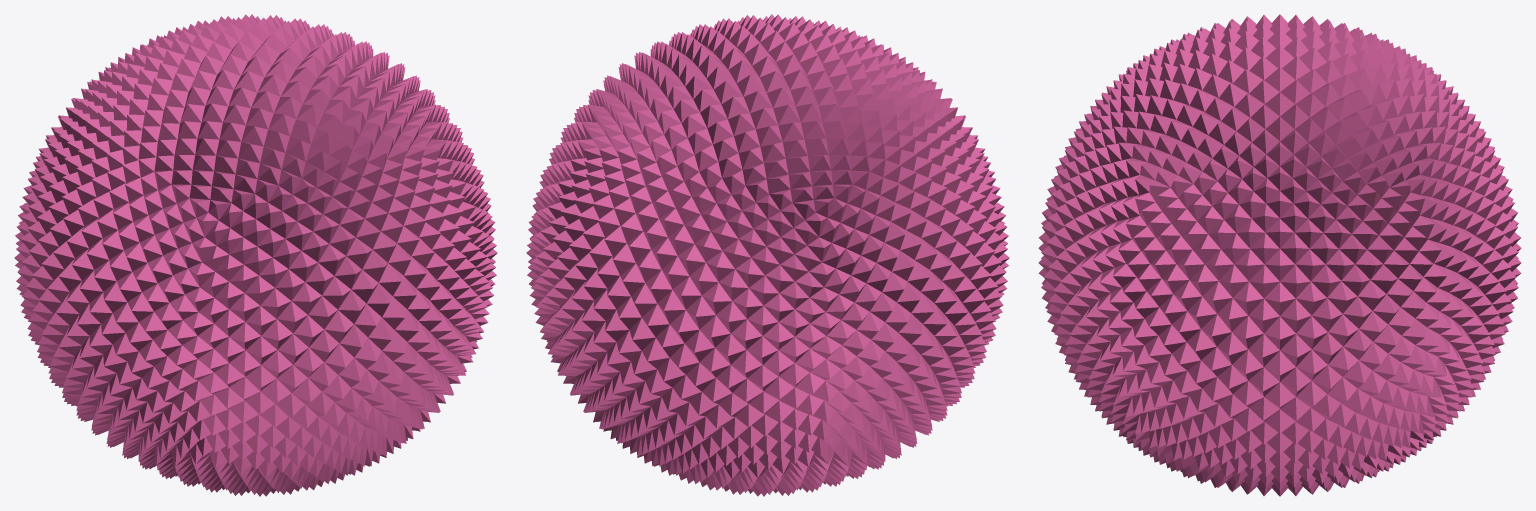
File: PinHead.fbx
The picture shows the model from 3 angles, left to right: view 1: azimuth 30°, elevation 25°; view 2: azimuth 150°, elevation 25°; view 3: azimuth 270°, elevation 25°; orthographic projection.
Parts seen in each view (by area): view 1: Cube; view 2: Cube; view 3: Cube.
Part boxes in pixels (bbox=[...]): Cube: bbox=[14, 14, 497, 496]; Cube: bbox=[526, 14, 1009, 496]; Cube: bbox=[1038, 14, 1521, 496].
Bounding box in the file's own units: 343 × 343 × 343.
